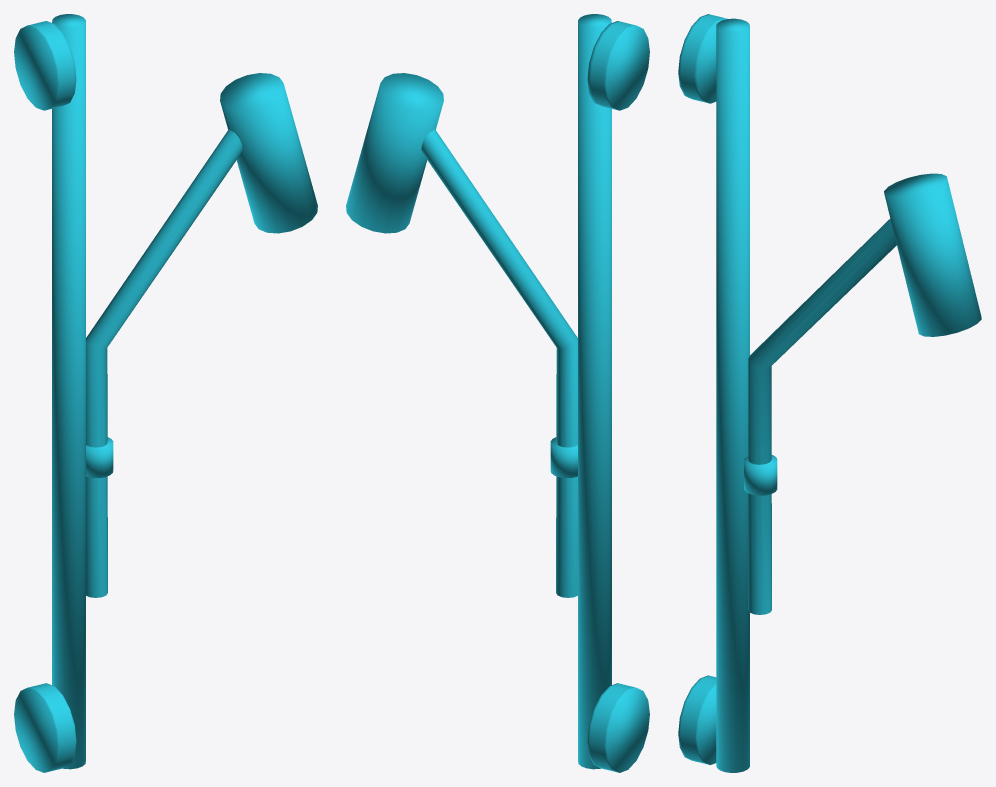
File: light.fbx
3 views of the same model, side by side, from view 1: azimuth 30°, elevation 25°; view 2: azimuth 150°, elevation 25°; view 3: azimuth 330°, elevation 25° (orthographic).
Parts seen in each view (by area): view 1: Lamp.001; view 2: Lamp.001; view 3: Lamp.001.
Part boxes in pixels (bbox=[...]): Lamp.001: bbox=[14, 14, 317, 772]; Lamp.001: bbox=[346, 14, 649, 772]; Lamp.001: bbox=[678, 14, 981, 772].
Size of the model in its own units: 0.2393 by 0.6101 by 0.0651.
